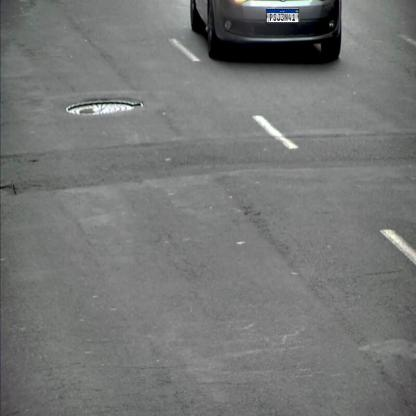PlacaM: (266, 9, 299, 23)
